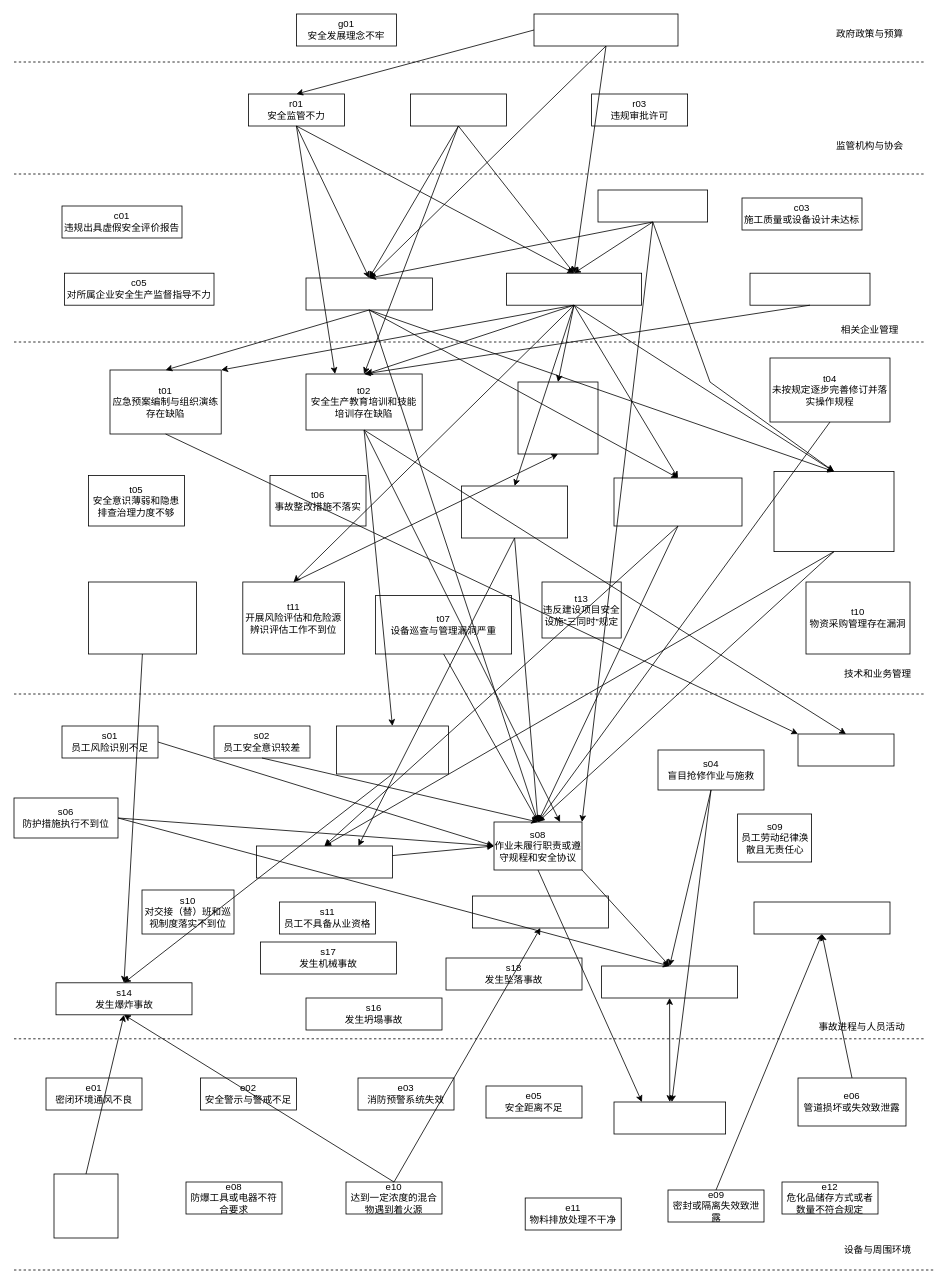
Image size: 949x1285. Some labels were removed from this diagram. The shapes that lost their labels are listed below. From the top down, each one's centre as x and y in pixels, then its label:
(x=605, y=29): g02 属地安全生产责任制未贯彻落实
(x=458, y=109): r02 执法检查不严
(x=652, y=205): c02 违规提供技术服务工作
(x=368, y=293): c04 安全生产责任未落实
(x=574, y=288): c06 安全检查和管理制度存在缺陷
(x=809, y=288): c07 安全生产投入严重不足
(x=557, y=417): t12 重大危险源管控和防范措施有缺陷
(x=514, y=511): t03 检维修与动火作业审批管理不足
(x=677, y=501): t08 施工方案和技术交底不完善
(x=833, y=511): t09 对施工单位、技术服务公司、承包商等监管不到位
(x=142, y=617): t14 工艺流程管理存在漏洞
(x=392, y=749): s03 专业知识技能掌握不熟练
(x=845, y=749): s05 应急处理能力较差
(x=324, y=861): s07 现场安全管理缺失
(x=540, y=911): s13 发生火灾事故
(x=821, y=917): s12 发生泄露事故
(x=669, y=981): s15 发生中毒窒息 事故
(x=669, y=1117): e04 危化品量或有毒气体超标
(x=85, y=1205): e07 装备设计有缺陷或设备异常
